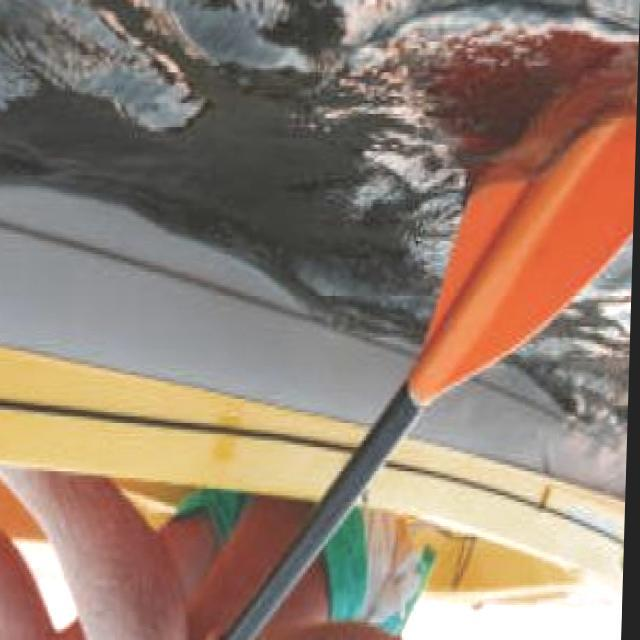kayak: (0, 211, 630, 602), (0, 181, 415, 502)
